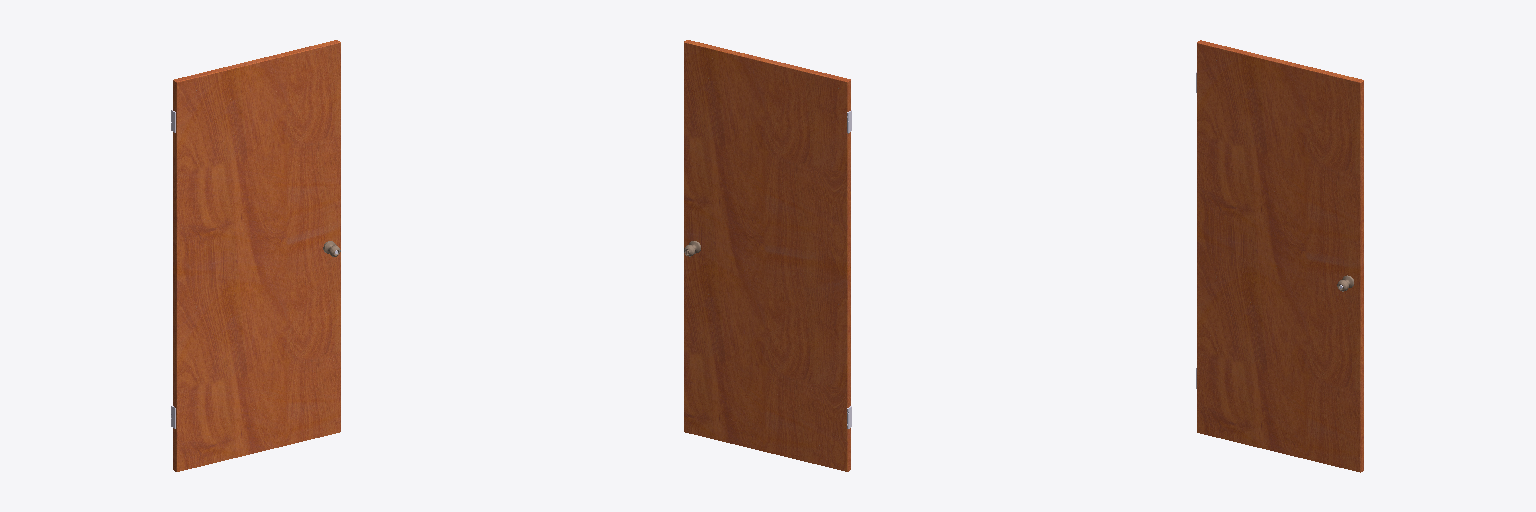
3 renders of one model, left to right at view 1: azimuth 30°, elevation 25°; view 2: azimuth 150°, elevation 25°; view 3: azimuth 330°, elevation 25°, orthographic.
Visible parts, largest first — view 1: door_Cube.020; view 2: door_Cube.020; view 3: door_Cube.020.
Part boxes in pixels (x1,y1,x2,y2): door_Cube.020: (173, 40, 340, 471); door_Cube.020: (684, 40, 850, 471); door_Cube.020: (1197, 40, 1363, 472).
Size of the model in its own units: 0.9183 by 2.06 by 0.1915.
Materials: 3 (1 with a texture image).